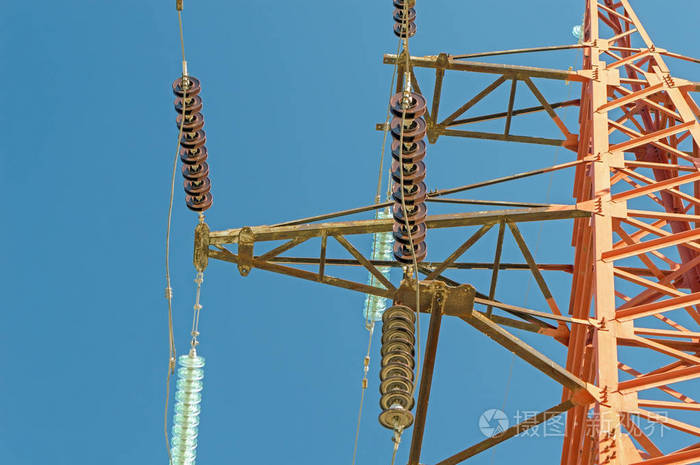insulator: (387, 93, 426, 262), (171, 75, 211, 211), (380, 306, 418, 432), (169, 354, 206, 465), (362, 209, 395, 320), (391, 1, 418, 39)
